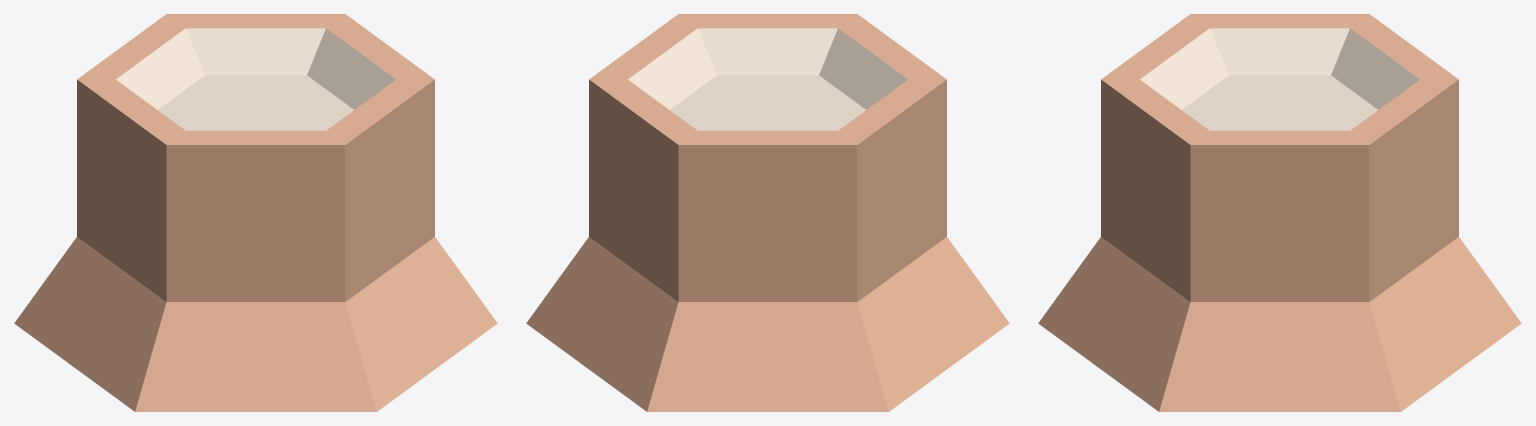
File: stump_round.glb
The picture shows the model from 3 angles, left to right: view 1: azimuth 30°, elevation 25°; view 2: azimuth 150°, elevation 25°; view 3: azimuth 270°, elevation 25°; orthographic projection.
Visible parts, largest first — view 1: stump_round; view 2: stump_round; view 3: stump_round.
Part boxes in pixels (left/top/right/bottom): stump_round: left=14, top=14, right=497, bottom=411; stump_round: left=526, top=14, right=1009, bottom=411; stump_round: left=1038, top=14, right=1521, bottom=411.
Size of the model in its own units: 0.3213 by 0.2065 by 0.371.
